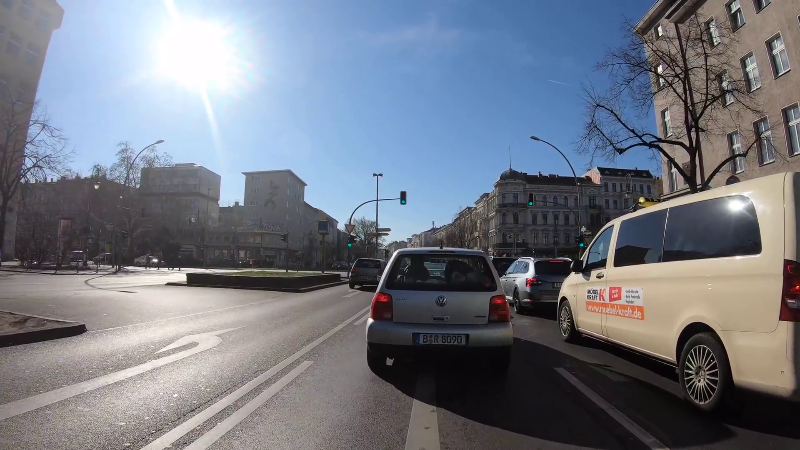Plate: (410, 332, 467, 347)
